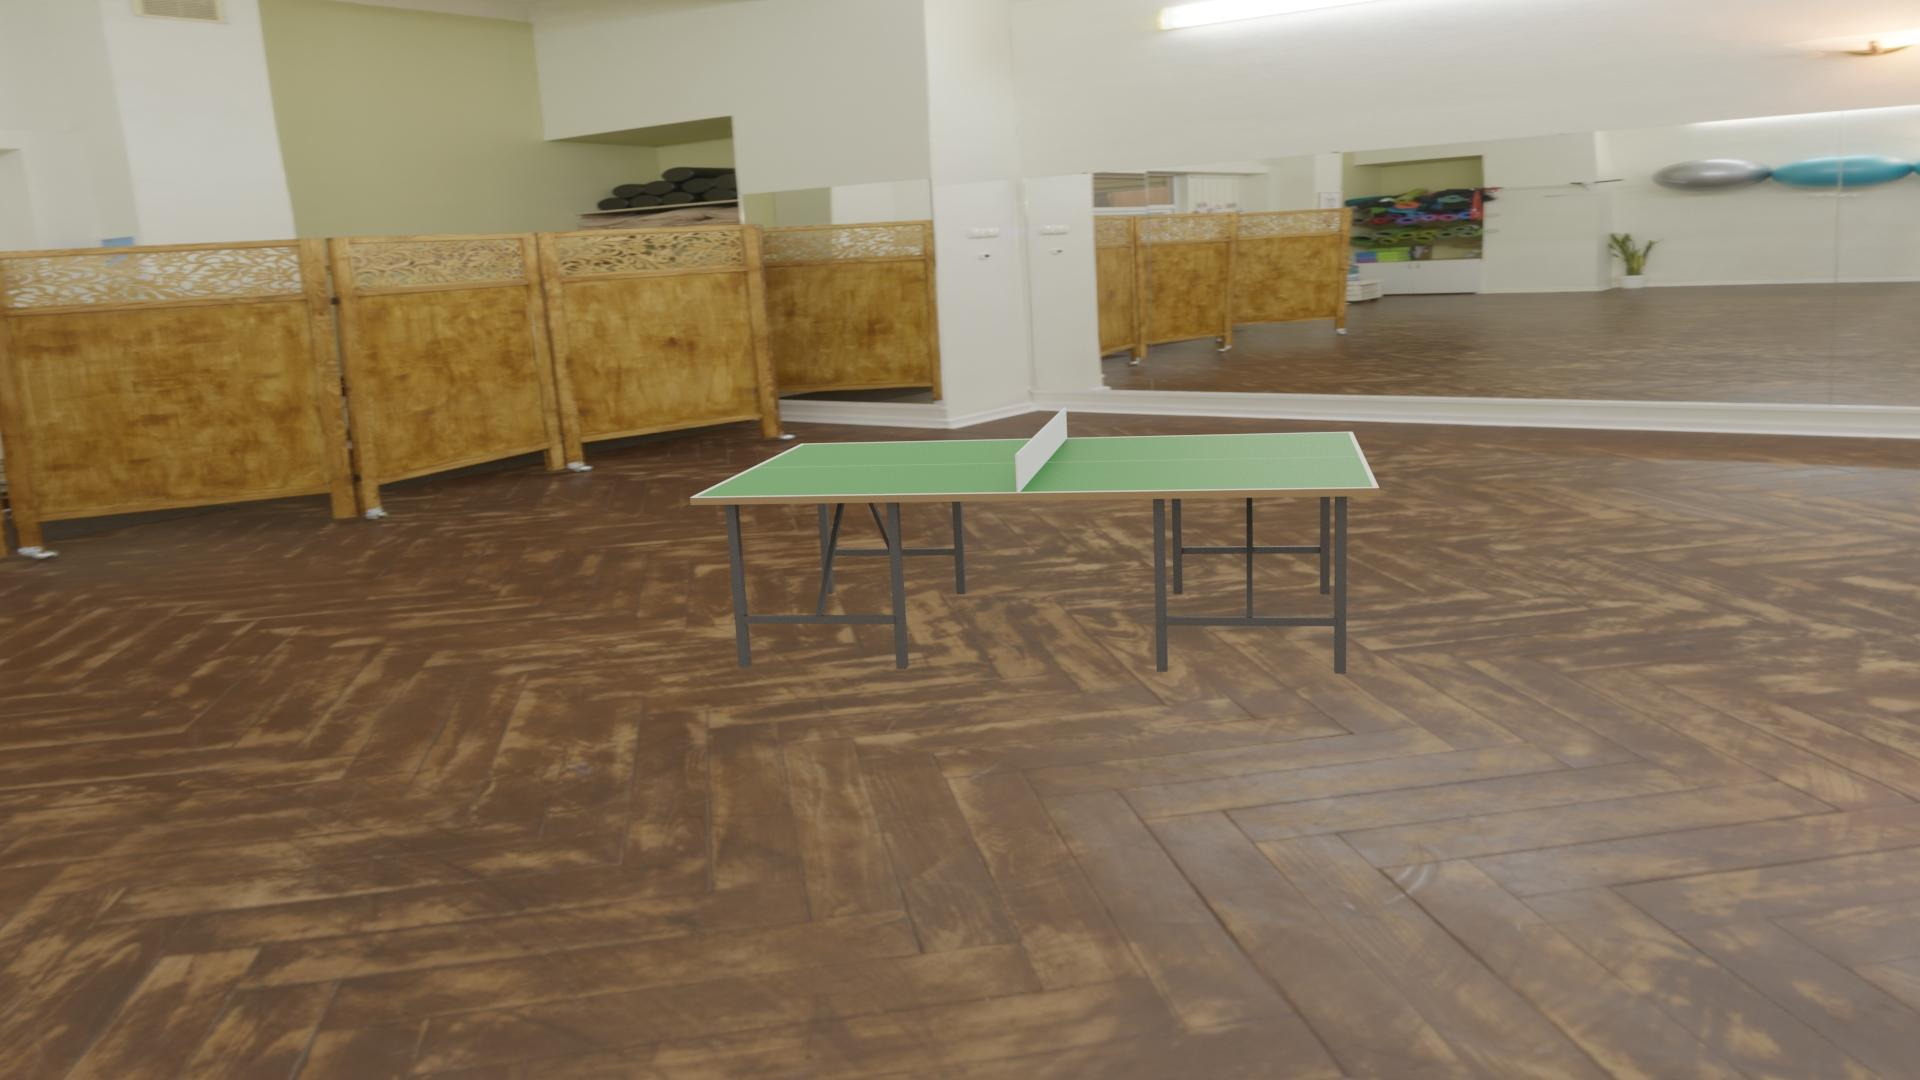table: (696, 433, 1373, 497)
